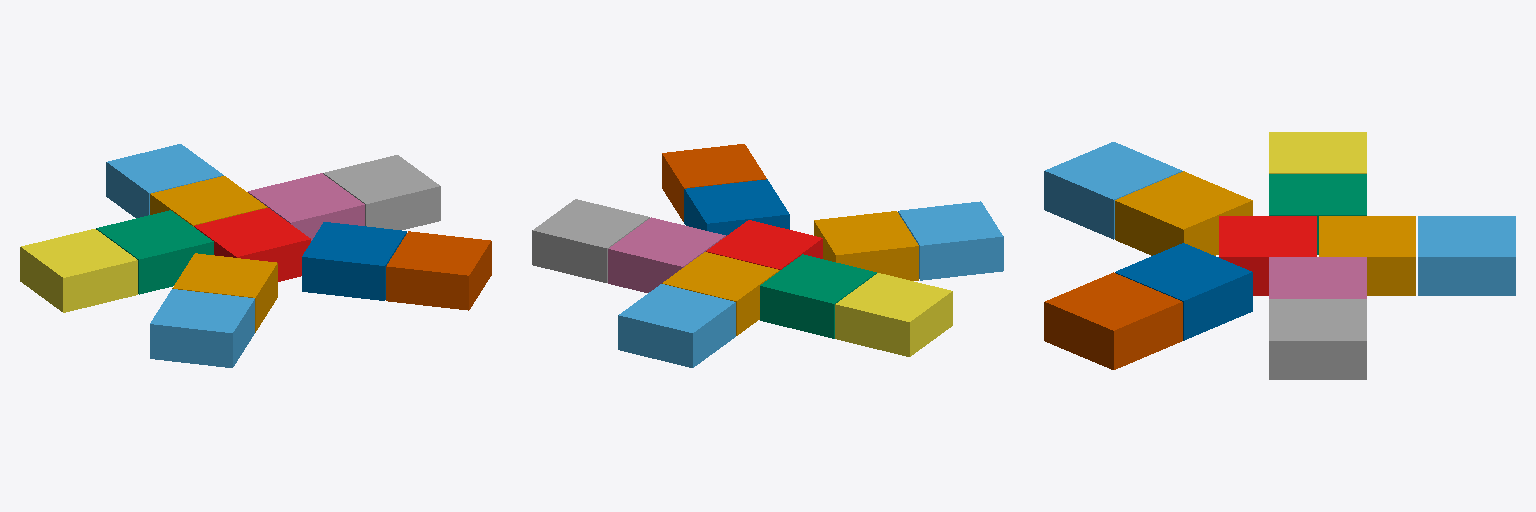
The robot description file, URDF, robot "rob":
<?xml version='1.0' encoding='UTF-8'?>
<robot name="rob">
  <link name="set1_arm1">
    <inertial>
      <origin xyz="0.0 0.34 0.0" rpy="0.0 0.0 0.0"/>
      <mass value="1.0"/>
      <inertia ixx="0.0" ixy="0.0" ixz="0.0" iyy="0.0" iyz="0.0" izz="0.0"/>
    </inertial>
    <visual>
      <geometry>
        <box size="0.67 0.67 0.3 "/>
      </geometry>
      <origin xyz="0.0 0.34 0.0" rpy="0.0 0.0 0.0"/>
    </visual>
    <collision>
      <geometry>
        <box size="0.67 0.67 0.3 "/>
      </geometry>
      <origin xyz="0.0 0.34 0.0" rpy="0.0 0.0 0.0"/>
    </collision>
  </link>
  <link name="set1_arm2">
    <inertial>
      <origin xyz="0.0 0.34 0.0" rpy="0.0 0.0 0.0"/>
      <mass value="1.0"/>
      <inertia ixx="0.0" ixy="0.0" ixz="0.0" iyy="0.0" iyz="0.0" izz="0.0"/>
    </inertial>
    <visual>
      <geometry>
        <box size="0.67 0.67 0.3 "/>
      </geometry>
      <origin xyz="0.0 0.34 0.0" rpy="0.0 0.0 0.0"/>
    </visual>
    <collision>
      <geometry>
        <box size="0.67 0.67 0.3 "/>
      </geometry>
      <origin xyz="0.0 0.34 0.0" rpy="0.0 0.0 0.0"/>
    </collision>
  </link>
  <link name="set5_arm1">
    <inertial>
      <origin xyz="0.0 0.34 0.0" rpy="0.0 0.0 0.0"/>
      <mass value="1.0"/>
      <inertia ixx="0.0" ixy="0.0" ixz="0.0" iyy="0.0" iyz="0.0" izz="0.0"/>
    </inertial>
    <visual>
      <geometry>
        <box size="0.67 0.67 0.3 "/>
      </geometry>
      <origin xyz="0.0 0.34 0.0" rpy="0.0 0.0 0.0"/>
    </visual>
    <collision>
      <geometry>
        <box size="0.67 0.67 0.3 "/>
      </geometry>
      <origin xyz="0.0 0.34 0.0" rpy="0.0 0.0 0.0"/>
    </collision>
  </link>
  <link name="set5_arm2">
    <inertial>
      <origin xyz="0.0 0.34 0.0" rpy="0.0 0.0 0.0"/>
      <mass value="1.0"/>
      <inertia ixx="0.0" ixy="0.0" ixz="0.0" iyy="0.0" iyz="0.0" izz="0.0"/>
    </inertial>
    <visual>
      <geometry>
        <box size="0.67 0.67 0.3 "/>
      </geometry>
      <origin xyz="0.0 0.34 0.0" rpy="0.0 0.0 0.0"/>
    </visual>
    <collision>
      <geometry>
        <box size="0.67 0.67 0.3 "/>
      </geometry>
      <origin xyz="0.0 0.34 0.0" rpy="0.0 0.0 0.0"/>
    </collision>
  </link>
  <link name="set6_arm1">
    <inertial>
      <origin xyz="0.0 0.34 0.0" rpy="0.0 0.0 0.0"/>
      <mass value="1.0"/>
      <inertia ixx="0.0" ixy="0.0" ixz="0.0" iyy="0.0" iyz="0.0" izz="0.0"/>
    </inertial>
    <visual>
      <geometry>
        <box size="0.67 0.67 0.3 "/>
      </geometry>
      <origin xyz="0.0 0.34 0.0" rpy="0.0 0.0 0.0"/>
    </visual>
    <collision>
      <geometry>
        <box size="0.67 0.67 0.3 "/>
      </geometry>
      <origin xyz="0.0 0.34 0.0" rpy="0.0 0.0 0.0"/>
    </collision>
  </link>
  <link name="set6_arm2">
    <inertial>
      <origin xyz="0.0 0.34 0.0" rpy="0.0 0.0 0.0"/>
      <mass value="1.0"/>
      <inertia ixx="0.0" ixy="0.0" ixz="0.0" iyy="0.0" iyz="0.0" izz="0.0"/>
    </inertial>
    <visual>
      <geometry>
        <box size="0.67 0.67 0.3 "/>
      </geometry>
      <origin xyz="0.0 0.34 0.0" rpy="0.0 0.0 0.0"/>
    </visual>
    <collision>
      <geometry>
        <box size="0.67 0.67 0.3 "/>
      </geometry>
      <origin xyz="0.0 0.34 0.0" rpy="0.0 0.0 0.0"/>
    </collision>
  </link>
  <link name="set7_arm1">
    <inertial>
      <origin xyz="0.0 0.34 0.0" rpy="0.0 0.0 0.0"/>
      <mass value="1.0"/>
      <inertia ixx="0.0" ixy="0.0" ixz="0.0" iyy="0.0" iyz="0.0" izz="0.0"/>
    </inertial>
    <visual>
      <geometry>
        <box size="0.67 0.67 0.3 "/>
      </geometry>
      <origin xyz="0.0 0.34 0.0" rpy="0.0 0.0 0.0"/>
    </visual>
    <collision>
      <geometry>
        <box size="0.67 0.67 0.3 "/>
      </geometry>
      <origin xyz="0.0 0.34 0.0" rpy="0.0 0.0 0.0"/>
    </collision>
  </link>
  <link name="set7_arm2">
    <inertial>
      <origin xyz="0.0 0.34 0.0" rpy="0.0 0.0 0.0"/>
      <mass value="1.0"/>
      <inertia ixx="0.0" ixy="0.0" ixz="0.0" iyy="0.0" iyz="0.0" izz="0.0"/>
    </inertial>
    <visual>
      <geometry>
        <box size="0.67 0.67 0.3 "/>
      </geometry>
      <origin xyz="0.0 0.34 0.0" rpy="0.0 0.0 0.0"/>
    </visual>
    <collision>
      <geometry>
        <box size="0.67 0.67 0.3 "/>
      </geometry>
      <origin xyz="0.0 0.34 0.0" rpy="0.0 0.0 0.0"/>
    </collision>
  </link>
  <link name="set8_arm1">
    <inertial>
      <origin xyz="0.0 0.34 0.0" rpy="0.0 0.0 0.0"/>
      <mass value="1.0"/>
      <inertia ixx="0.0" ixy="0.0" ixz="0.0" iyy="0.0" iyz="0.0" izz="0.0"/>
    </inertial>
    <visual>
      <geometry>
        <box size="0.67 0.67 0.3 "/>
      </geometry>
      <origin xyz="0.0 0.34 0.0" rpy="0.0 0.0 0.0"/>
    </visual>
    <collision>
      <geometry>
        <box size="0.67 0.67 0.3 "/>
      </geometry>
      <origin xyz="0.0 0.34 0.0" rpy="0.0 0.0 0.0"/>
    </collision>
  </link>
  <link name="set8_arm2">
    <inertial>
      <origin xyz="0.0 0.34 0.0" rpy="0.0 0.0 0.0"/>
      <mass value="1.0"/>
      <inertia ixx="0.0" ixy="0.0" ixz="0.0" iyy="0.0" iyz="0.0" izz="0.0"/>
    </inertial>
    <visual>
      <geometry>
        <box size="0.67 0.67 0.3 "/>
      </geometry>
      <origin xyz="0.0 0.34 0.0" rpy="0.0 0.0 0.0"/>
    </visual>
    <collision>
      <geometry>
        <box size="0.67 0.67 0.3 "/>
      </geometry>
      <origin xyz="0.0 0.34 0.0" rpy="0.0 0.0 0.0"/>
    </collision>
  </link>
  <link name="base_link">
    <inertial>
      <origin xyz="0.0 0.0 0.0" rpy="0.0 -0.0 0.0"/>
      <mass value="1.0"/>
      <inertia ixx="1.0" ixy="0.0" ixz="0.0" iyy="1.0" iyz="0.0" izz="1.0"/>
    </inertial>
    <visual>
      <geometry>
        <box size="0.67 0.67 0.3 "/>
      </geometry>
      <material name="red"/>
      <origin xyz="0.0 0.0 0.0" rpy="0.0 -0.0 0.0"/>
    </visual>
    <collision>
      <geometry>
        <box size="0.67 0.67 0.3 "/>
      </geometry>
      <origin xyz="0.0 0.0 0.0" rpy="0.0 0.0 0.0"/>
    </collision>
  </link>
  <joint name="set1_jointBase" type="fixed">
    <limit effort="1.57" velocity="1.57" lower="-1.57" upper="1.57"/>
    <parent link="base_link"/>
    <child link="set1_arm1"/>
    <axis xyz="1. 0. 0."/>
    <origin xyz="0.0 0.34 0.0" rpy="0.0 0.0 0.0"/>
  </joint>
  <joint name="set1_joint1" type="revolute">
    <limit effort="1.57" velocity="1.57" lower="-1.57" upper="1.57"/>
    <parent link="set1_arm1"/>
    <child link="set1_arm2"/>
    <axis xyz="1. 0. 0."/>
    <origin xyz="0.0 0.68 0.0" rpy="0.0 0.0 0.0"/>
  </joint>
  <joint name="set5_jointBase" type="fixed">
    <limit effort="1.57" velocity="1.57" lower="-1.57" upper="1.57"/>
    <parent link="base_link"/>
    <child link="set5_arm1"/>
    <axis xyz="1. 0. 0."/>
    <origin xyz="-0.34 0.34 0.0" rpy="0.0 0.0 1.57"/>
  </joint>
  <joint name="set5_joint1" type="revolute">
    <limit effort="1.57" velocity="1.57" lower="-1.57" upper="1.57"/>
    <parent link="set5_arm1"/>
    <child link="set5_arm2"/>
    <axis xyz="1. 0. 0."/>
    <origin xyz="0.0 0.68 0.0" rpy="0.0 0.0 0.0"/>
  </joint>
  <joint name="set6_jointBase" type="fixed">
    <limit effort="1.57" velocity="1.57" lower="-1.57" upper="1.57"/>
    <parent link="base_link"/>
    <child link="set6_arm1"/>
    <axis xyz="1. 0. 0."/>
    <origin xyz="0.34 -0.34 0.0" rpy="0.0 0.0 -2.355"/>
  </joint>
  <joint name="set6_joint1" type="revolute">
    <limit effort="1.57" velocity="1.57" lower="-1.57" upper="1.57"/>
    <parent link="set6_arm1"/>
    <child link="set6_arm2"/>
    <axis xyz="1. 0. 0."/>
    <origin xyz="0.0 0.68 0.0" rpy="0.0 0.0 0.0"/>
  </joint>
  <joint name="set7_jointBase" type="fixed">
    <limit effort="1.57" velocity="1.57" lower="-1.57" upper="1.57"/>
    <parent link="base_link"/>
    <child link="set7_arm1"/>
    <axis xyz="1. 0. 0."/>
    <origin xyz="0.34 0.34 0.0" rpy="0.0 0.0 -1.57"/>
  </joint>
  <joint name="set7_joint1" type="revolute">
    <limit effort="1.57" velocity="1.57" lower="-1.57" upper="1.57"/>
    <parent link="set7_arm1"/>
    <child link="set7_arm2"/>
    <axis xyz="1. 0. 0."/>
    <origin xyz="0.0 0.68 0.0" rpy="0.0 0.0 0.0"/>
  </joint>
  <joint name="set8_jointBase" type="fixed">
    <limit effort="1.57" velocity="1.57" lower="-1.57" upper="1.57"/>
    <parent link="base_link"/>
    <child link="set8_arm1"/>
    <axis xyz="1. 0. 0."/>
    <origin xyz="-0.34 -0.34 0.0" rpy="0.0 0.0 2.355"/>
  </joint>
  <joint name="set8_joint1" type="revolute">
    <limit effort="1.57" velocity="1.57" lower="-1.57" upper="1.57"/>
    <parent link="set8_arm1"/>
    <child link="set8_arm2"/>
    <axis xyz="1. 0. 0."/>
    <origin xyz="0.0 0.68 0.0" rpy="0.0 0.0 0.0"/>
  </joint>
  <material name="red">
    <color rgba="0.969 0.129 0.122 1.   "/>
  </material>
</robot>

--- What the picture shows (computed from the rendered views, not written in the file) ---
3 views of the same robot in one strip: view 1: azimuth 30°, elevation 25°; view 2: azimuth 150°, elevation 25°; view 3: azimuth 270°, elevation 25° (orthographic).
Model rob with 11 links and 10 joints (5 revolute, 5 fixed), rooted at base_link, posed all joints at 0.
Links seen in each view (by area): view 1: set5_arm2, set6_arm2, set8_arm2, set6_arm1, set7_arm2, set5_arm1, set1_arm2, base_link, set7_arm1, set8_arm1, set1_arm1; view 2: set1_arm2, set5_arm2, set8_arm2, set7_arm2, set5_arm1, set8_arm1, set7_arm1, set6_arm1, set1_arm1, set6_arm2, base_link; view 3: set6_arm2, set7_arm2, set1_arm2, set8_arm1, set8_arm2, set6_arm1, set1_arm1, base_link, set5_arm1, set5_arm2, set7_arm1.
Link boxes in pixels (x1,y1,x2,y2): set5_arm2: (20, 229, 137, 312); set6_arm2: (386, 231, 491, 310); set8_arm2: (150, 289, 254, 367); set6_arm1: (302, 222, 406, 300); set7_arm2: (323, 155, 440, 229); set5_arm1: (96, 210, 213, 294); set1_arm2: (106, 144, 223, 217); base_link: (194, 208, 310, 281); set7_arm1: (248, 173, 364, 240); set8_arm1: (172, 253, 277, 332); set1_arm1: (150, 176, 267, 226); set1_arm2: (618, 284, 735, 367); set5_arm2: (835, 273, 952, 356); set8_arm2: (898, 201, 1003, 280); set7_arm2: (532, 199, 649, 282); set5_arm1: (760, 254, 876, 338); set8_arm1: (814, 211, 918, 280); set7_arm1: (608, 217, 725, 292); set6_arm1: (684, 179, 789, 235); set1_arm1: (662, 252, 779, 335); set6_arm2: (662, 144, 766, 221); base_link: (706, 220, 822, 269); set6_arm2: (1044, 272, 1182, 369); set7_arm2: (1269, 299, 1366, 379); set1_arm2: (1418, 216, 1515, 295); set8_arm1: (1115, 171, 1252, 255); set8_arm2: (1044, 142, 1182, 239); set6_arm1: (1115, 243, 1252, 340); set1_arm1: (1319, 216, 1415, 295); base_link: (1219, 216, 1316, 295); set5_arm1: (1269, 174, 1366, 254); set5_arm2: (1269, 132, 1366, 173); set7_arm1: (1269, 257, 1366, 298).
Size in the robot's own frame: 3.39 by 3.23 by 0.3 metres.
Geometry: primitives only (box / cylinder / sphere), no mesh files.